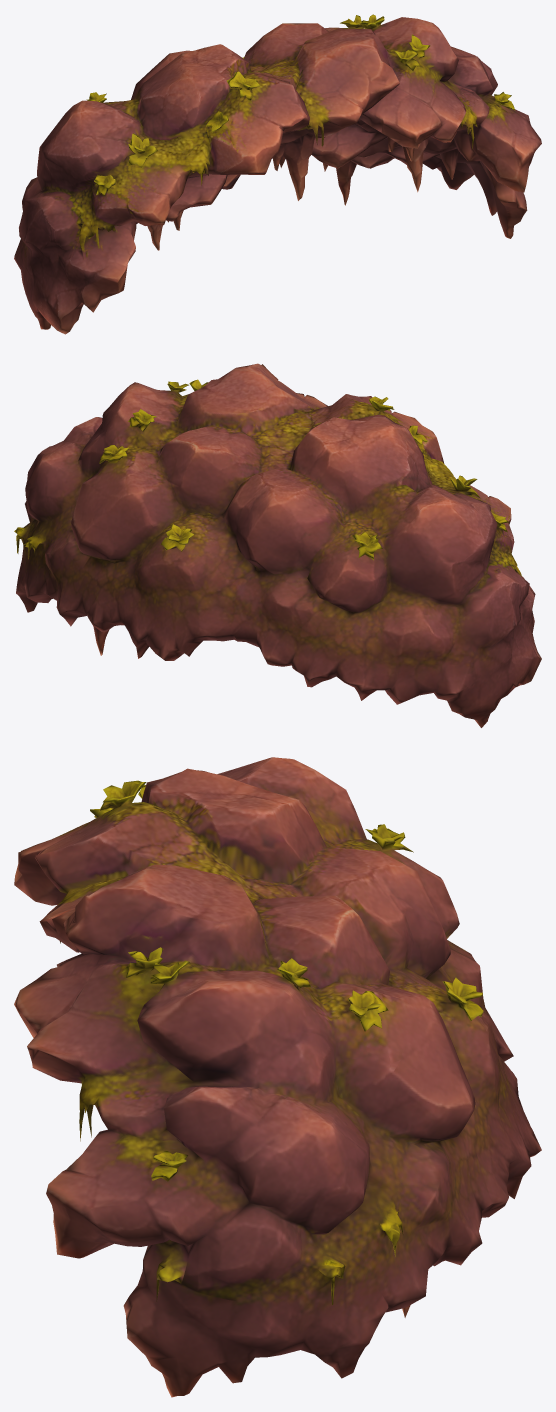
File: techo de cueva 2.glb
The picture shows the model from 3 angles, top to bottom: view 1: azimuth 30°, elevation 25°; view 2: azimuth 150°, elevation 25°; view 3: azimuth 270°, elevation 25°; orthographic projection. The views are drawn at different scales.
Parts seen in each view (by area): view 1: tripo_node_86485880-ee91-4063-b9b9-26e581319e20; view 2: tripo_node_86485880-ee91-4063-b9b9-26e581319e20; view 3: tripo_node_86485880-ee91-4063-b9b9-26e581319e20.
Part boxes in pixels (<box>): tripo_node_86485880-ee91-4063-b9b9-26e581319e20: <box>14,14,541,334</box>; tripo_node_86485880-ee91-4063-b9b9-26e581319e20: <box>14,363,541,727</box>; tripo_node_86485880-ee91-4063-b9b9-26e581319e20: <box>14,757,541,1397</box>.
Size of the model in its own units: 1 by 0.5034 by 0.5854.
1 material, 1 textured.
